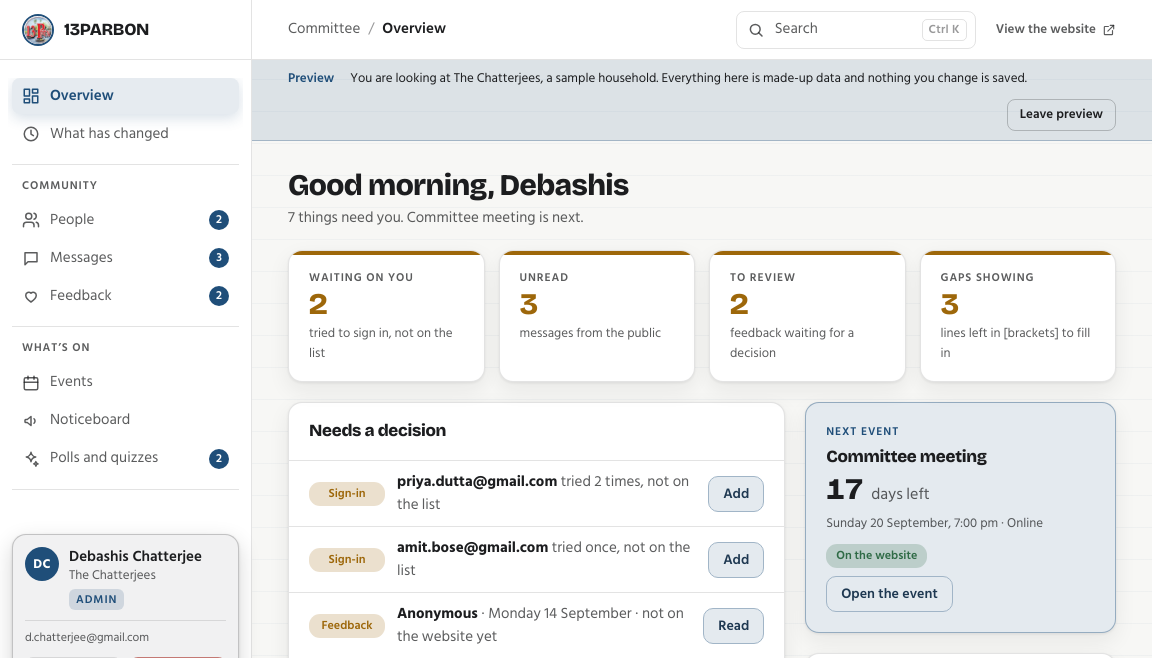
Test: the committee’s search › opens an evening in the designer
Step 1. Click the button "Search Ctrl K" → coordinates (856, 30), box x1=736 y1=10 x2=976 y2=48
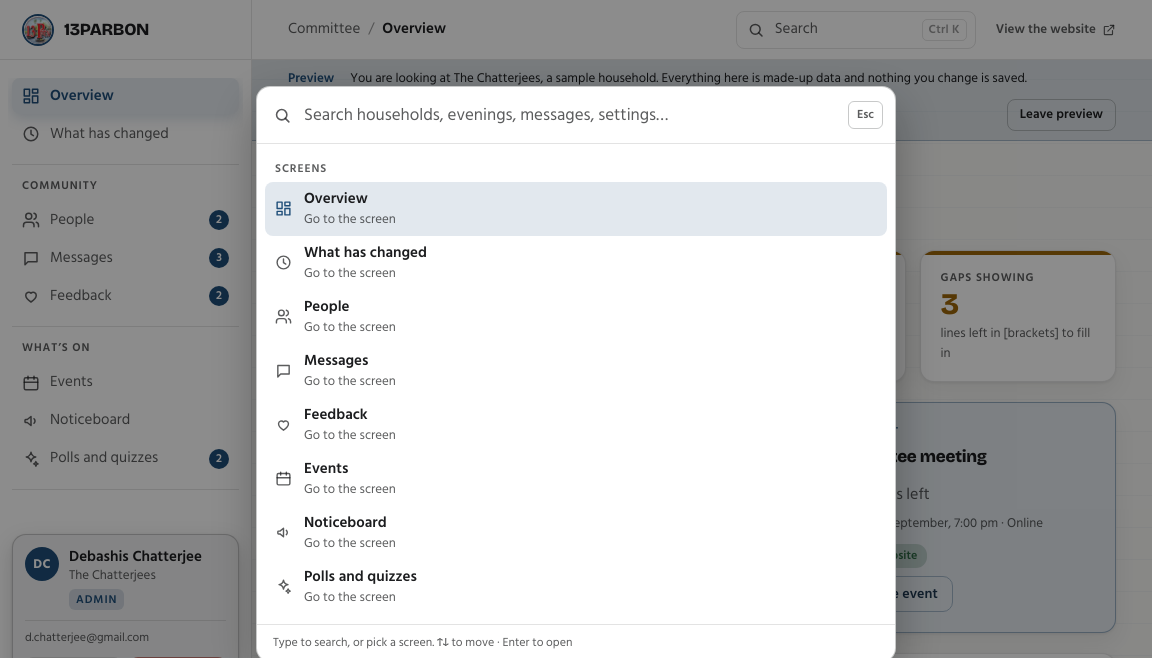
Step 2. Type "cultural programme" into the dropdown → coordinates (570, 115), box x1=302 y1=87 x2=838 y2=143
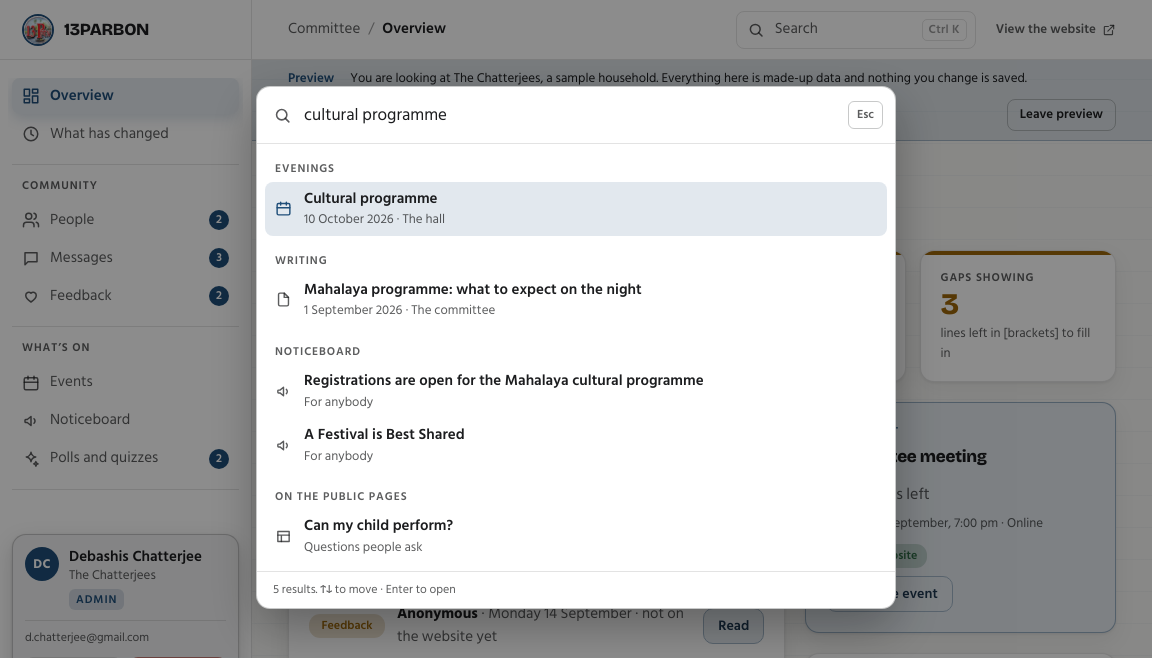
Step 3. Click the option "Cultural programme 10 October 2026 · The hall" → coordinates (371, 198), box x1=265 y1=182 x2=887 y2=236
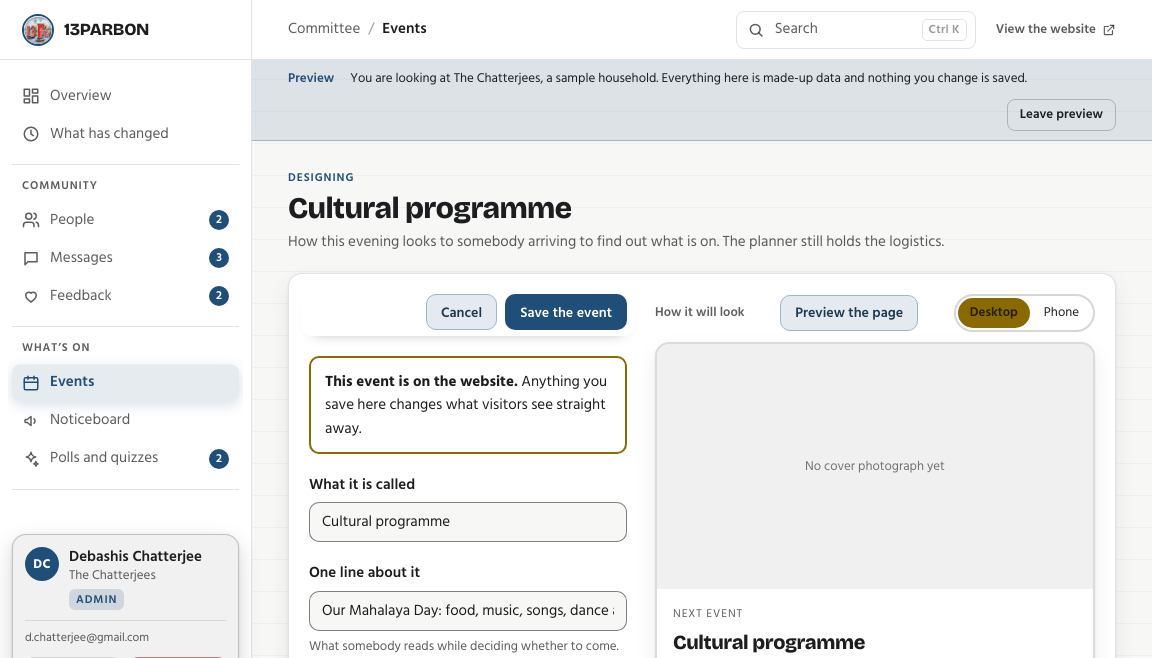
Check: the text "Designing" is shown, box x1=288 y1=168 x2=354 y2=186
Check: the heading "Cultural programme" below "Designing" is shown, box x1=288 y1=190 x2=571 y2=226
